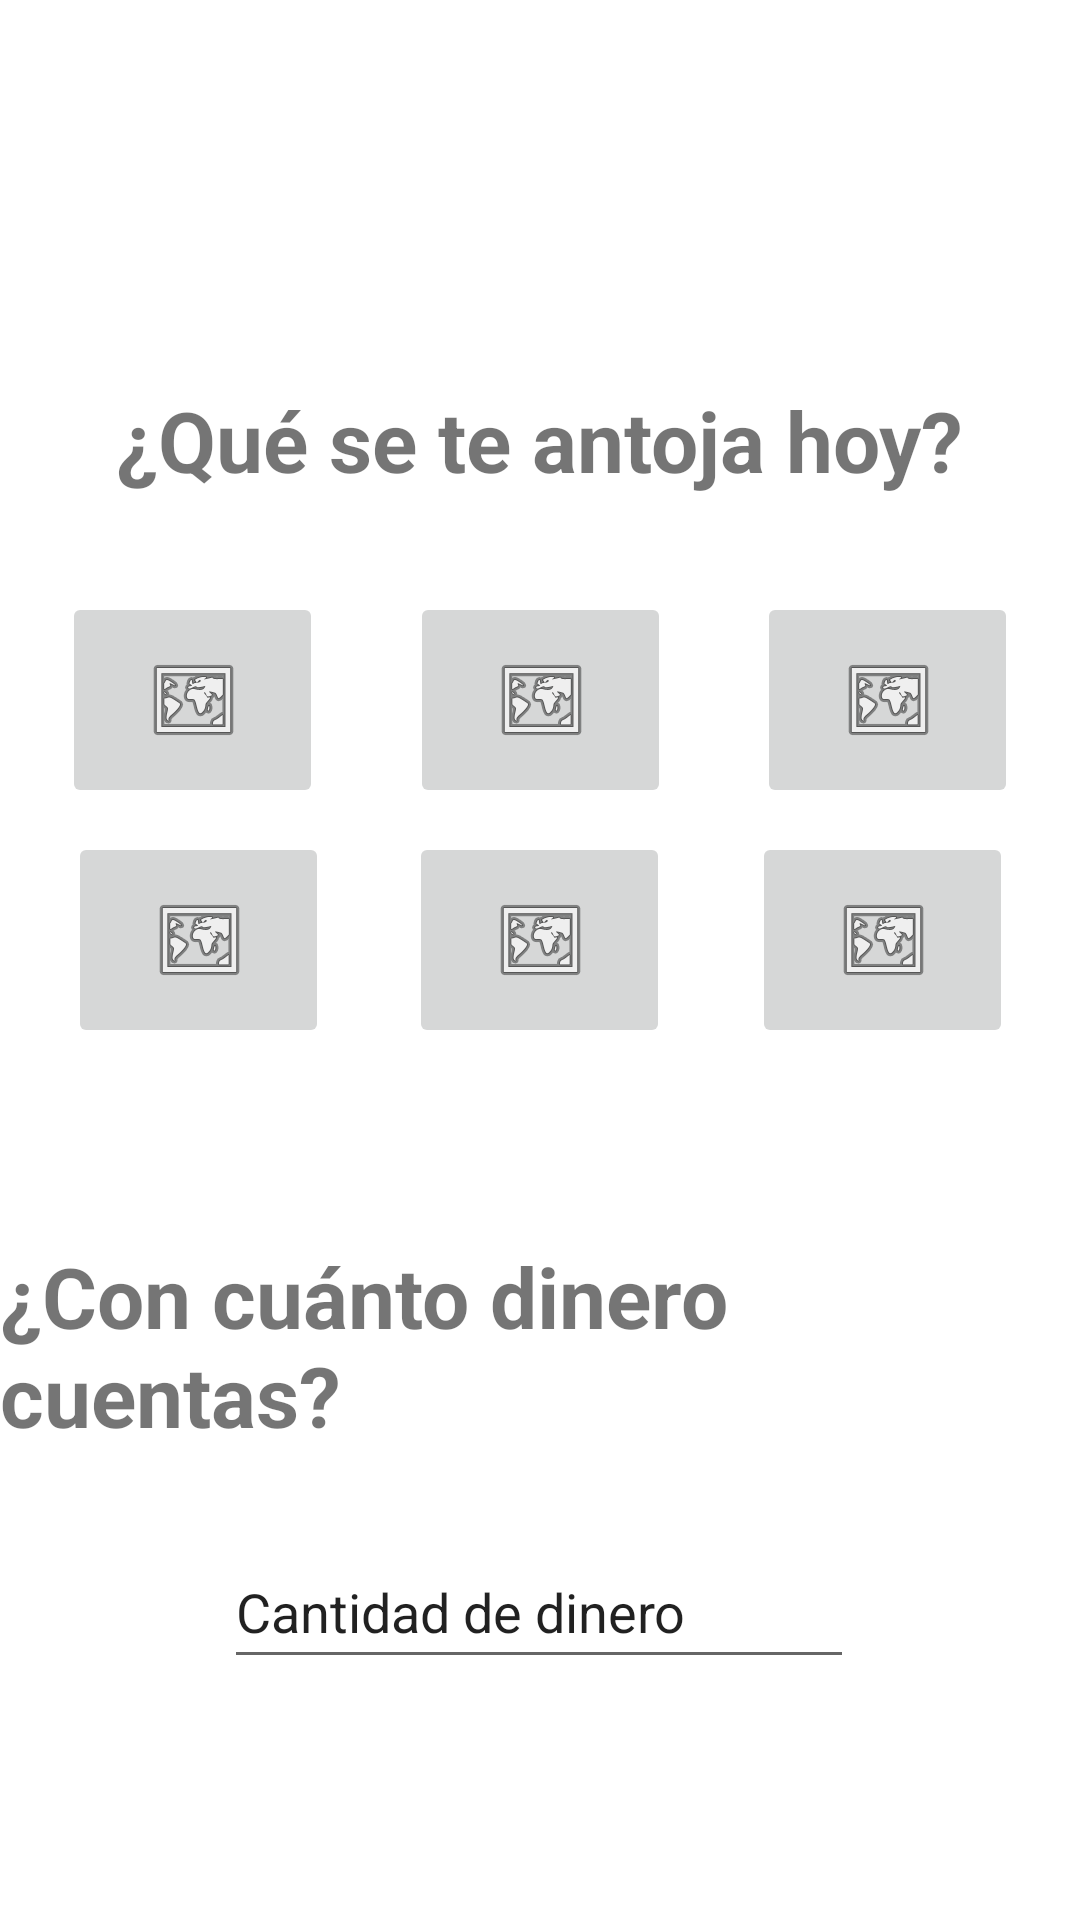

Icons on this 1080x1920 Android screen, each with the point to tap as (x,y):
mapmode: (192,700), (540,700), (887,700), (198,940), (539,940), (882,940)
